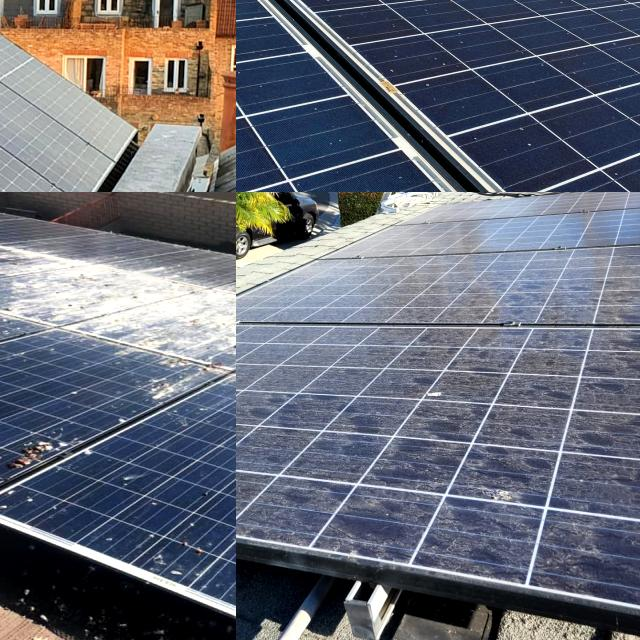bird: (0, 224, 126, 306), (142, 317, 236, 404), (138, 502, 209, 586), (0, 420, 79, 474), (0, 336, 35, 424)
crack: (0, 103, 76, 172), (0, 134, 51, 192)
dust: (446, 0, 640, 123), (464, 456, 640, 568), (258, 430, 441, 535), (467, 334, 640, 438), (263, 338, 430, 423), (467, 243, 640, 320), (236, 88, 344, 192), (438, 194, 621, 236), (298, 272, 439, 321), (236, 341, 296, 445), (236, 468, 291, 512)
